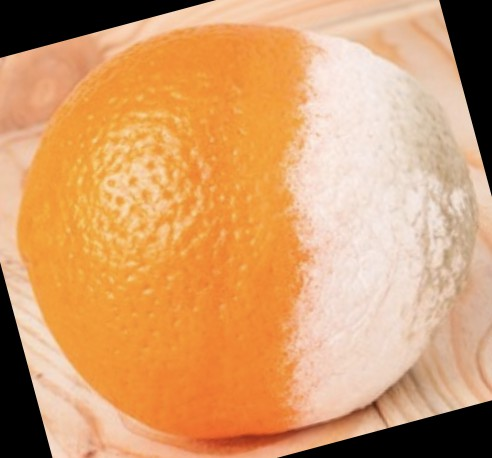rotten_orange: (19, 24, 475, 441)
